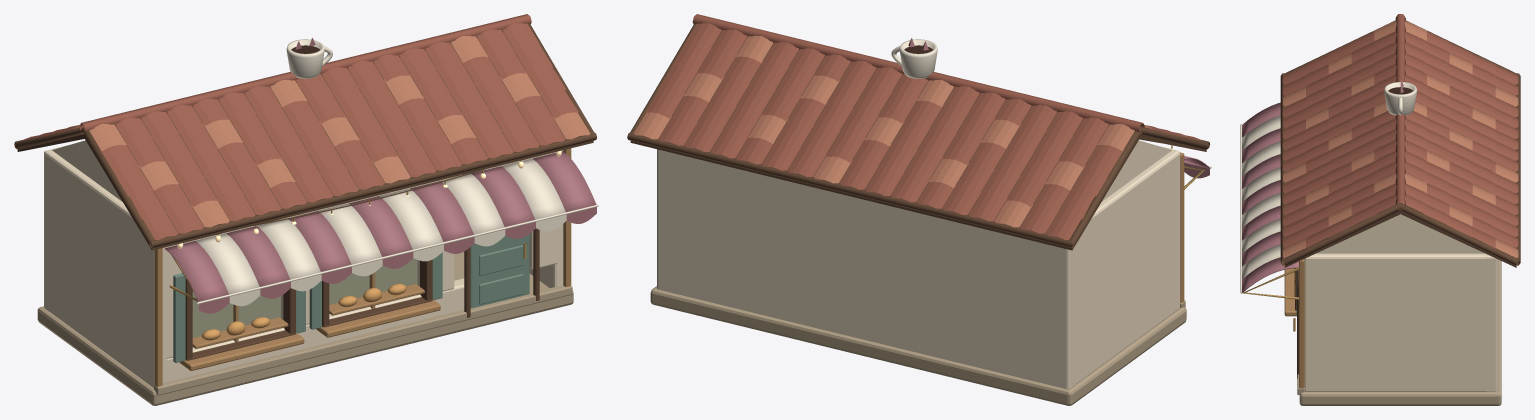
The model's file is corner-cafe.glb.
3 views of the same model, side by side, from view 1: azimuth 30°, elevation 25°; view 2: azimuth 150°, elevation 25°; view 3: azimuth 270°, elevation 25° (orthographic). The views are drawn at different scales.
Parts seen in each view (by area): view 1: Cafe_Terracotta, Cafe_Limewash, Cafe_WovenRose, Cafe_Canvas, Cafe_Walnut, Cafe_Sandstone, Cafe_TileVariation, Cafe_HoneyOak, Cafe_Sage, Cafe_WindowGlow, Cafe_BakedPastry; view 2: Cafe_Limewash, Cafe_Terracotta, Cafe_Sandstone, Cafe_Walnut, Cafe_TileVariation, Cafe_Canvas, Cafe_HoneyOak; view 3: Cafe_Terracotta, Cafe_Limewash, Cafe_Walnut, Cafe_TileVariation, Cafe_Canvas, Cafe_WovenRose, Cafe_Sandstone, Cafe_HoneyOak, Cafe_AgedBrass.
Part boxes in pixels (x1=…): Cafe_Terracotta: x1=21, y1=14, x2=578, y2=239; Cafe_Limewash: x1=44, y1=140, x2=563, y2=387; Cafe_WovenRose: x1=165, y1=38, x2=596, y2=313; Cafe_Canvas: x1=196, y1=39, x2=598, y2=331; Cafe_Walnut: x1=14, y1=23, x2=596, y2=360; Cafe_Sandstone: x1=37, y1=252, x2=573, y2=405; Cafe_TileVariation: x1=72, y1=35, x2=590, y2=227; Cafe_HoneyOak: x1=154, y1=148, x2=571, y2=386; Cafe_Sage: x1=173, y1=234, x2=529, y2=362; Cafe_WindowGlow: x1=192, y1=258, x2=417, y2=337; Cafe_BakedPastry: x1=202, y1=283, x2=406, y2=340; Cafe_Limewash: x1=657, y1=140, x2=1180, y2=389; Cafe_Terracotta: x1=645, y1=14, x2=1202, y2=239; Cafe_Sandstone: x1=650, y1=286, x2=1186, y2=405; Cafe_Walnut: x1=627, y1=23, x2=1209, y2=250; Cafe_TileVariation: x1=634, y1=36, x2=1152, y2=227; Cafe_Canvas: x1=891, y1=39, x2=1211, y2=168; Cafe_HoneyOak: x1=1180, y1=152, x2=1184, y2=302; Cafe_Terracotta: x1=1283, y1=14, x2=1518, y2=248; Cafe_Limewash: x1=1304, y1=214, x2=1497, y2=391; Cafe_Walnut: x1=1280, y1=20, x2=1520, y2=378; Cafe_TileVariation: x1=1283, y1=21, x2=1518, y2=258; Cafe_Canvas: x1=1240, y1=82, x2=1417, y2=293; Cafe_WovenRose: x1=1241, y1=79, x2=1403, y2=293; Cafe_Sandstone: x1=1297, y1=259, x2=1501, y2=405; Cafe_HoneyOak: x1=1284, y1=259, x2=1304, y2=388; Cafe_AgedBrass: x1=1243, y1=268, x2=1298, y2=331.
Bounding box in the file's own units: 7.79 × 4.57 × 4.91.
